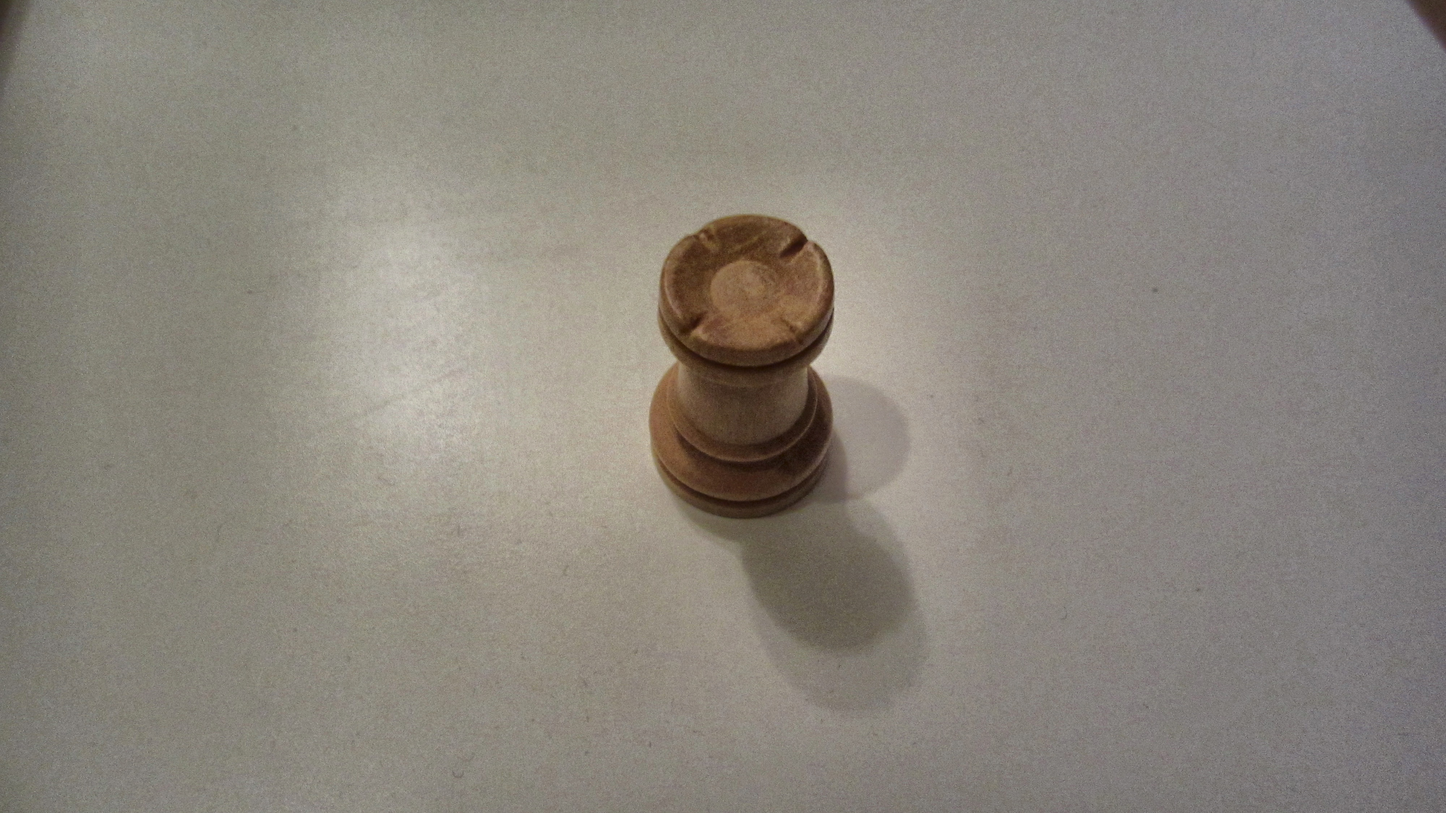white-rook: (643, 207, 838, 522)
